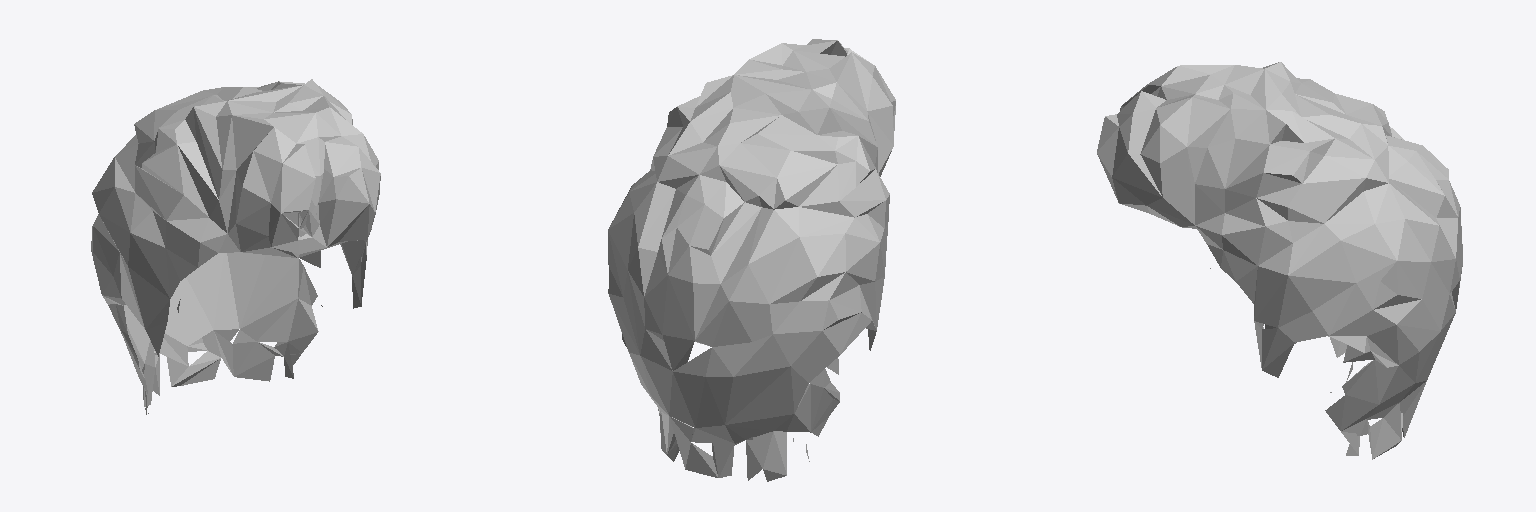
The model's file is hair male 1.obj.
3 views of the same model, side by side, from view 1: azimuth 30°, elevation 25°; view 2: azimuth 150°, elevation 25°; view 3: azimuth 270°, elevation 25° (orthographic).
Visible parts, largest first — view 1: Object_Mesh; view 2: Object_Mesh; view 3: Object_Mesh.
Boxes of the visible parts, <box> form: Object_Mesh: <box>91,79,380,414</box>; Object_Mesh: <box>608,39,895,481</box>; Object_Mesh: <box>1097,62,1462,459</box>.
Bounding box in the file's own units: 0.368 × 0.5143 × 0.4898.